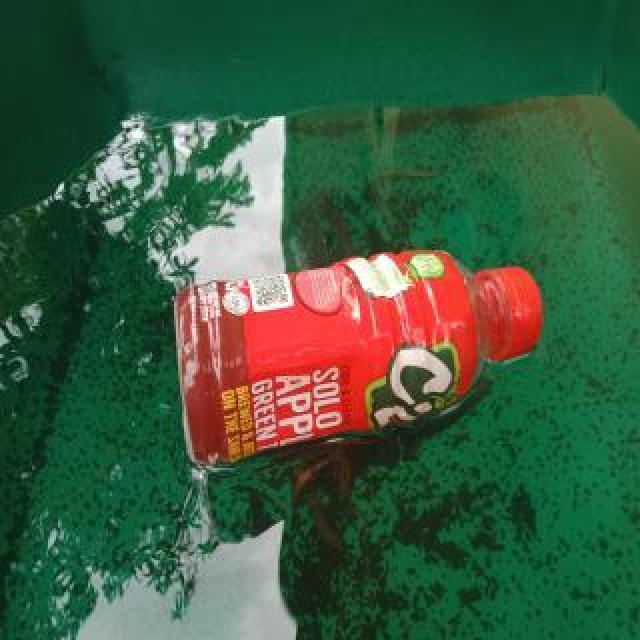bottle: (172, 244, 546, 472)
